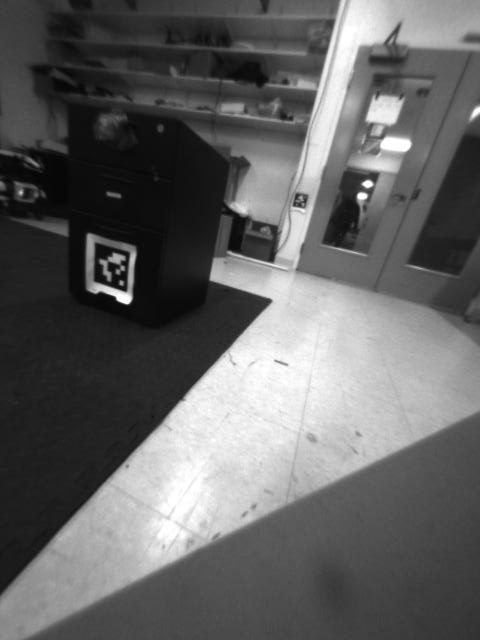door_handle: (387, 189, 410, 209)
drawer: (85, 111, 133, 151)
